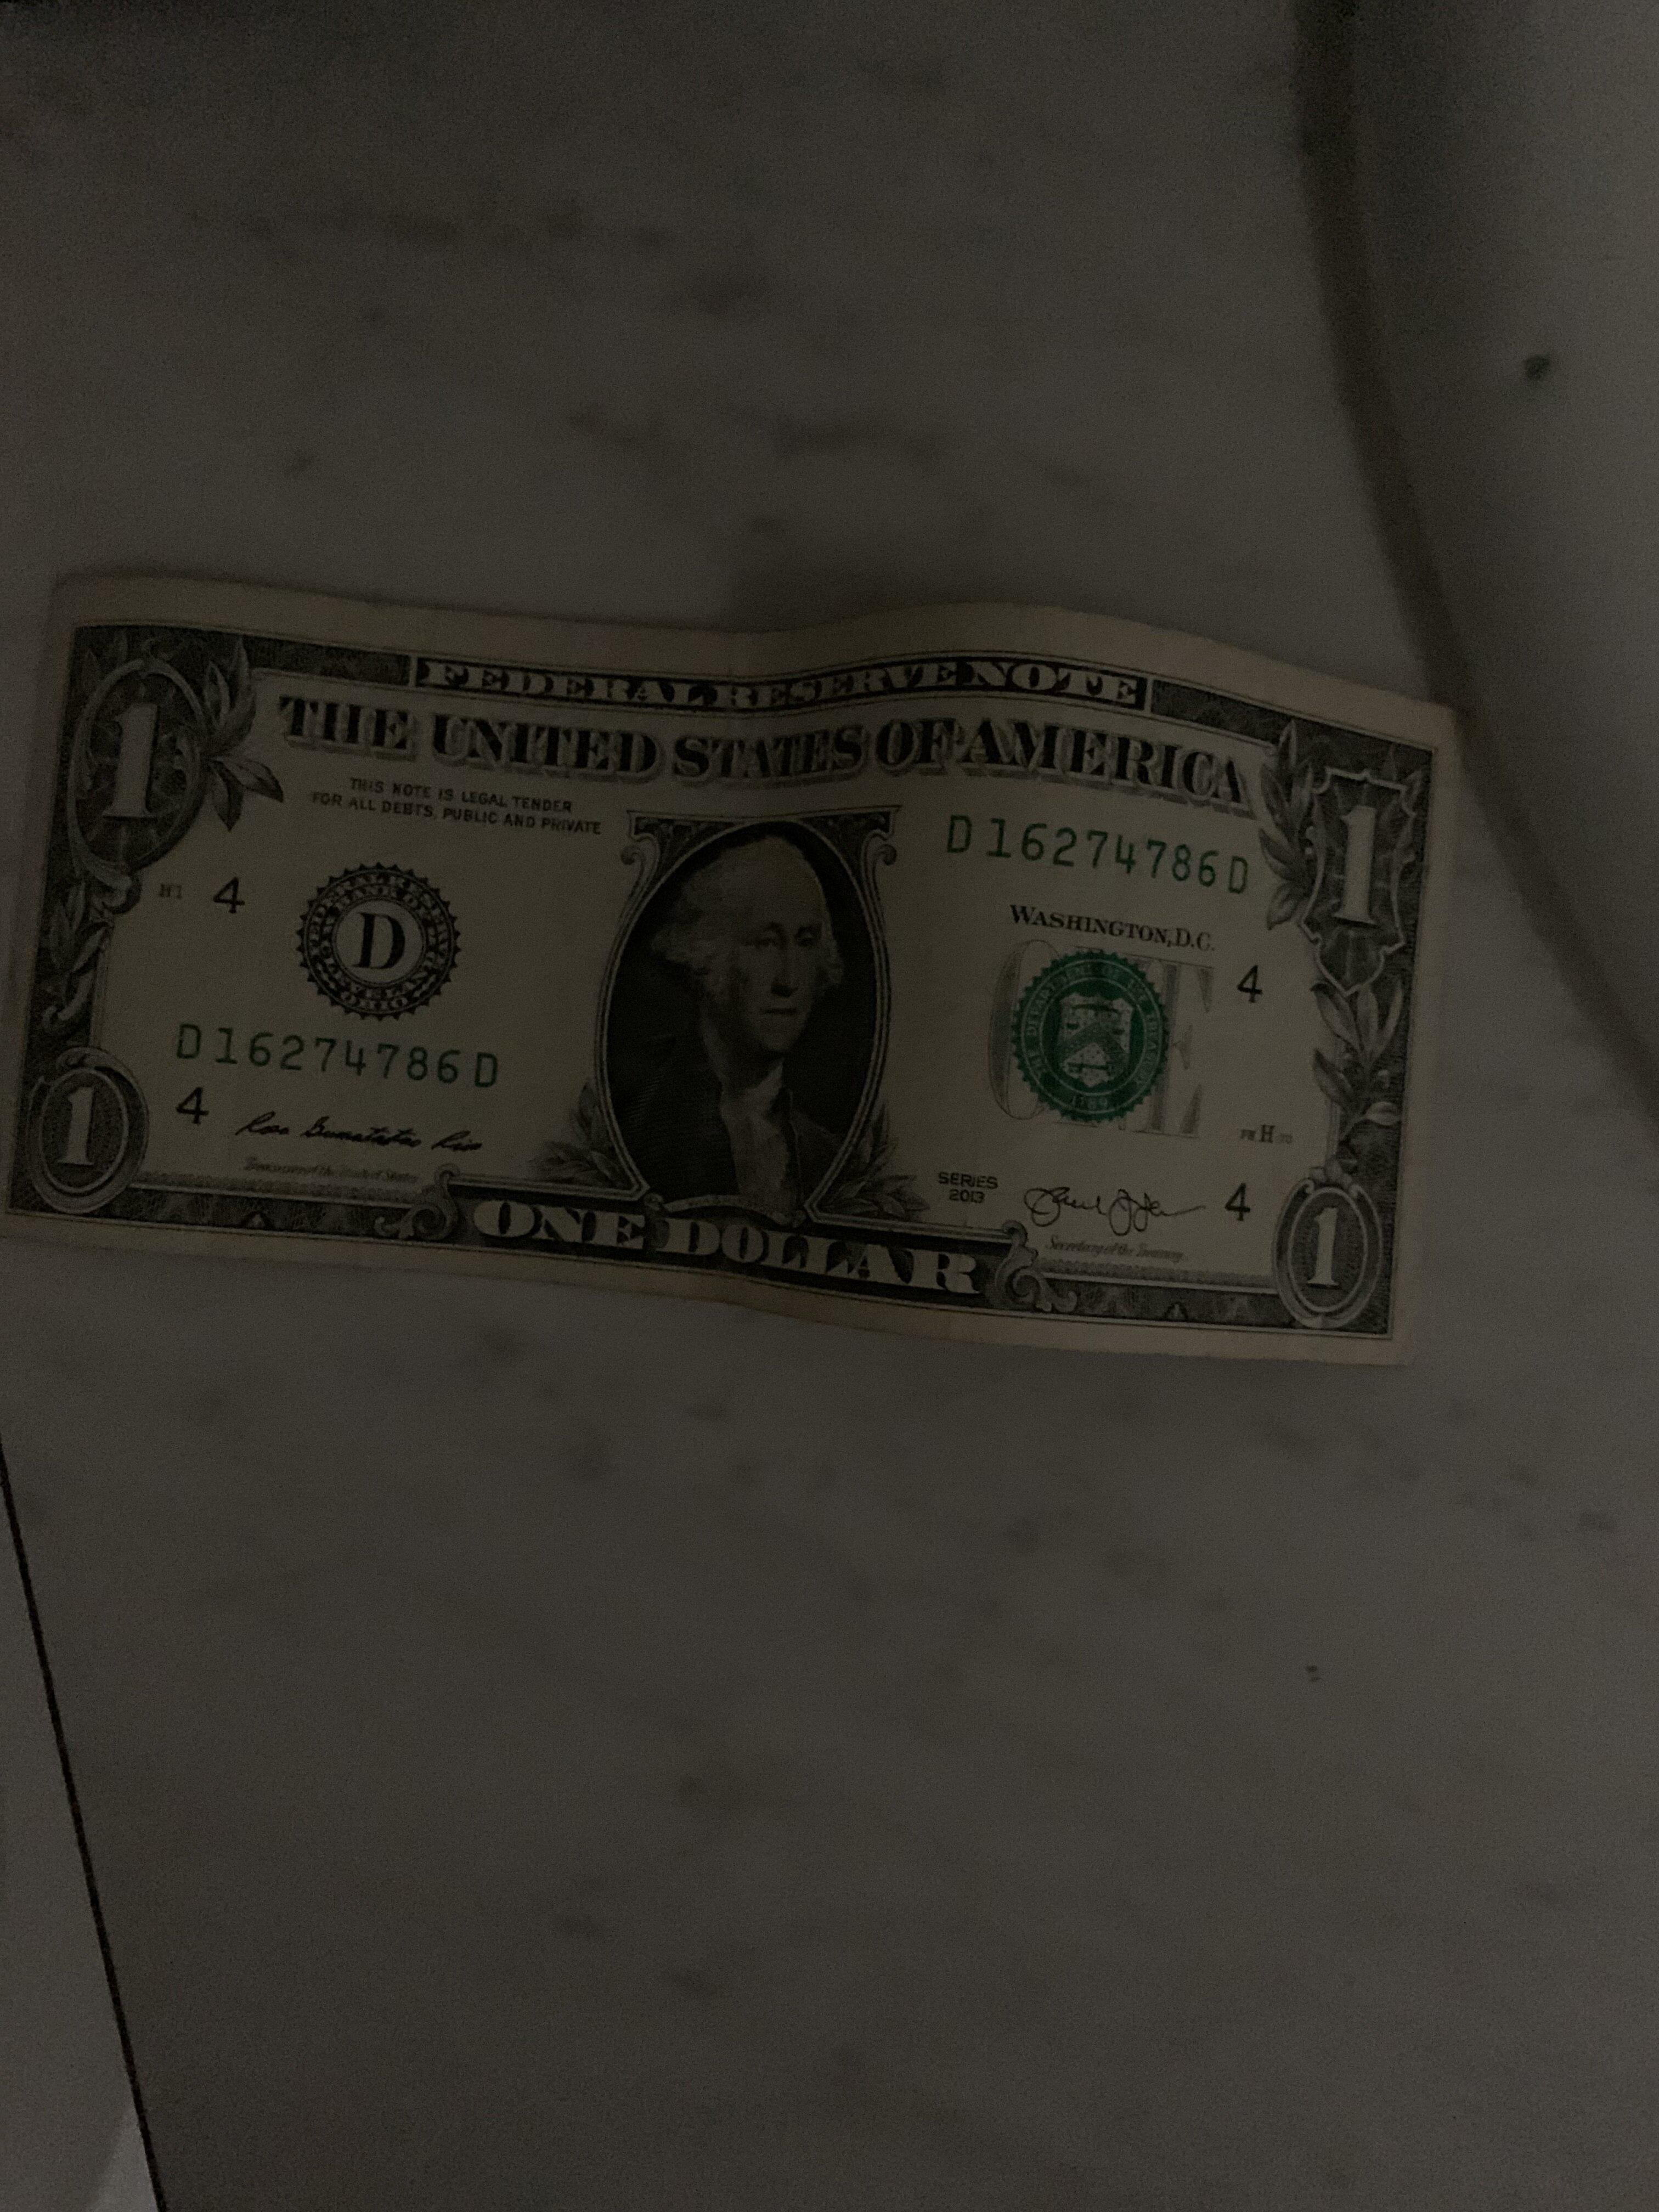OneBill: (2, 540, 1509, 1338)
